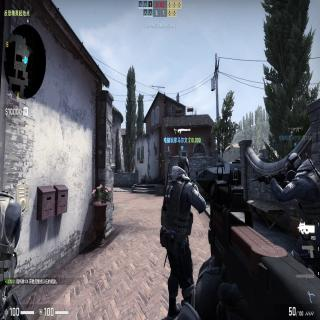CT-Head: (285, 154, 302, 176), (177, 156, 190, 177)
